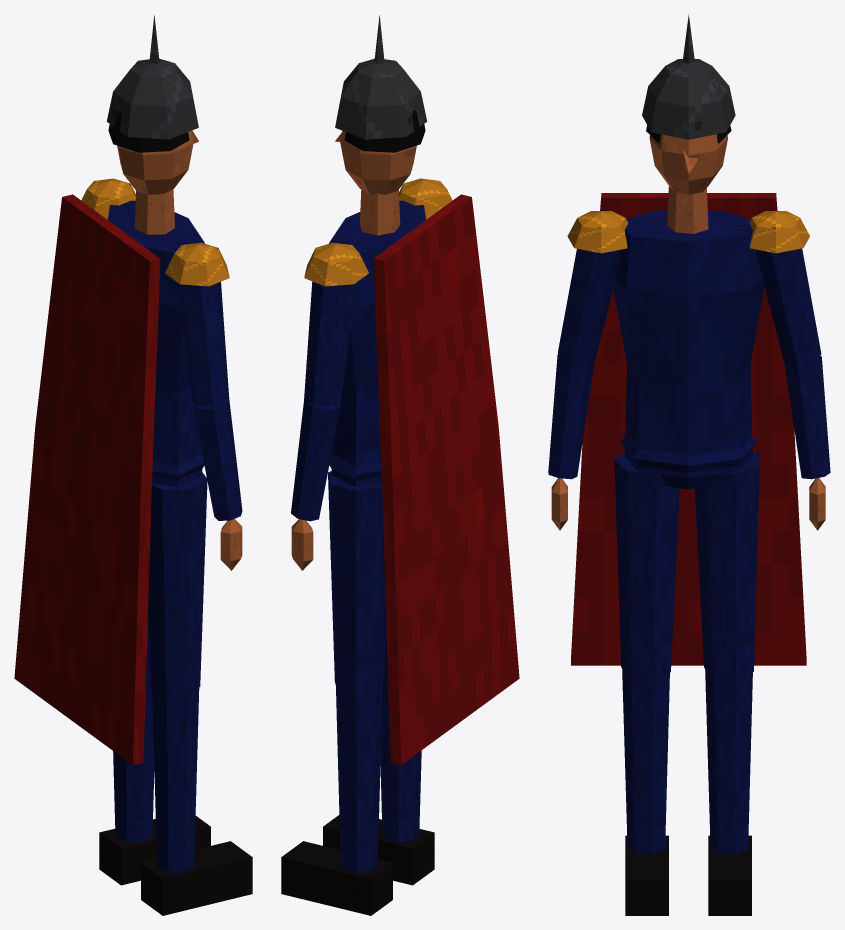
The model's file is oficial.glb.
3 renders of one model, left to right at view 1: azimuth 30°, elevation 25°; view 2: azimuth 150°, elevation 25°; view 3: azimuth 270°, elevation 25°, orthographic.
Parts seen in each view (by area): view 1: capa, muslo_der, torso, pierna_der, casco, pie_der, brazo_der, pierna_izq, antebrazo_der, cabeza, pie_izq, hombrera_der (+5 smaller); view 2: capa, muslo_izq, torso, pierna_izq, casco, pie_izq, brazo_izq, pierna_der, antebrazo_izq, cabeza, pie_der, hombrera_izq (+5 smaller); view 3: capa, torso, muslo_der, muslo_izq, pierna_der, pierna_izq, casco, brazo_izq, brazo_der, antebrazo_izq, antebrazo_der, cabeza (+8 smaller).
Boxes of the visible parts, x1,y1,x2,y2 form: capa: (14, 194, 160, 764); muslo_der: (148, 472, 207, 694); torso: (107, 200, 204, 486); pierna_der: (152, 688, 199, 872); casco: (106, 15, 198, 139); pie_der: (141, 841, 252, 915); brazo_der: (176, 282, 229, 406); pierna_izq: (113, 662, 154, 842); antebrazo_der: (193, 398, 242, 520); cabeza: (117, 130, 198, 194); pie_izq: (99, 816, 210, 885); hombrera_der: (165, 242, 229, 286); capa: (373, 194, 519, 764); muslo_izq: (328, 471, 386, 695); torso: (329, 200, 425, 486); pierna_izq: (336, 685, 382, 873); casco: (335, 15, 427, 139); pie_izq: (281, 841, 392, 915); brazo_izq: (304, 281, 356, 406); pierna_der: (380, 663, 421, 842); antebrazo_izq: (291, 400, 340, 521); cabeza: (335, 131, 416, 194); pie_der: (323, 815, 434, 885); hombrera_izq: (304, 242, 368, 286); capa: (571, 193, 806, 665); torso: (613, 210, 764, 477); muslo_der: (614, 451, 679, 677); muslo_izq: (694, 452, 759, 677); pierna_der: (622, 668, 669, 854); pierna_izq: (705, 669, 752, 854); casco: (642, 14, 735, 139); brazo_izq: (755, 248, 821, 367); brazo_der: (558, 249, 620, 367); antebrazo_izq: (785, 356, 830, 479); antebrazo_der: (548, 354, 594, 479); cabeza: (649, 134, 727, 194).
Size of the model in its own units: 0.3 by 1.7 by 0.5.
1 material, 1 textured.
